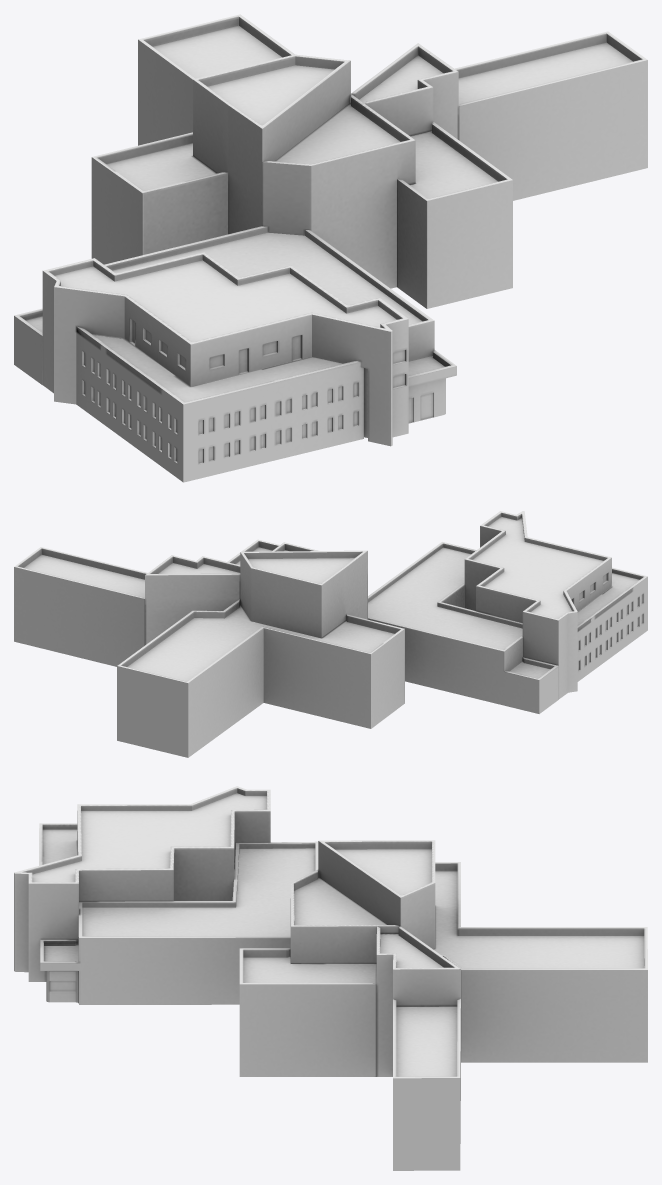
Rendered from kavala_building08.glb.
3 renders of one model, top to bottom at view 1: azimuth 30°, elevation 25°; view 2: azimuth 150°, elevation 25°; view 3: azimuth 270°, elevation 25°, orthographic. The views are drawn at different scales.
Visible parts, largest first — view 1: building_v006; view 2: building_v006; view 3: building_v006.
Boxes of the visible parts, left/top/right/bottom form: building_v006: left=14, top=14, right=647, bottom=482; building_v006: left=14, top=511, right=647, bottom=757; building_v006: left=14, top=786, right=647, bottom=1170.
Size of the model in its own units: 7.96 by 1.95 by 7.44.
1 material, 1 textured.
